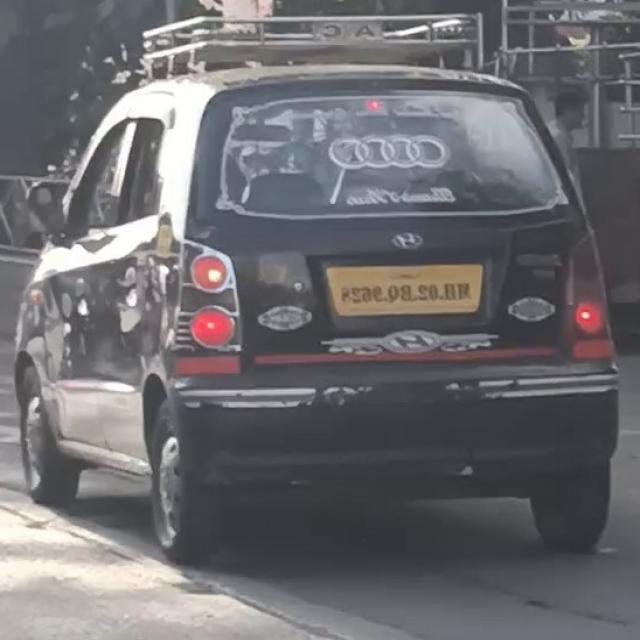license_plate: (322, 256, 491, 325)
